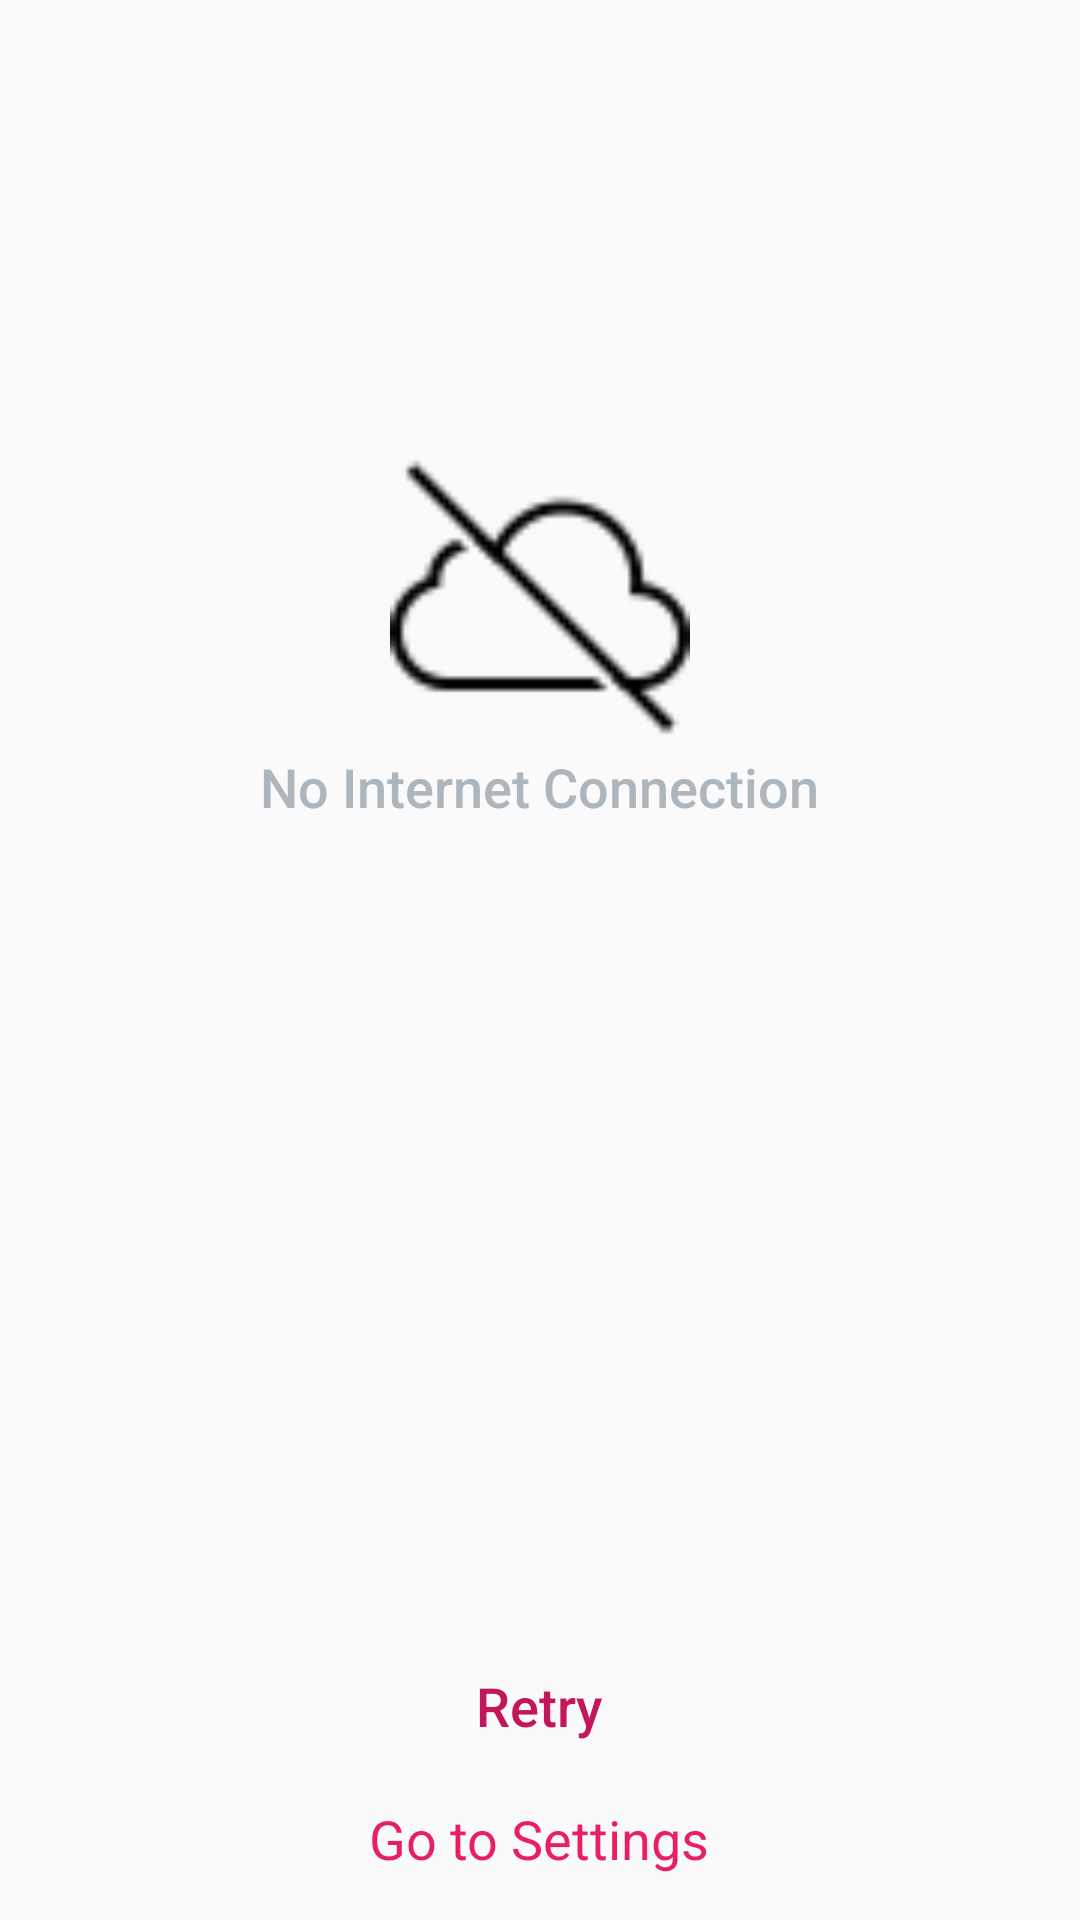

Locate icon controls on the screen. Image size 1080x1920, boxes as [left=x1, top=y1, right=x2, bottom=y2].
Error Image: [left=390, top=461, right=690, bottom=734]
